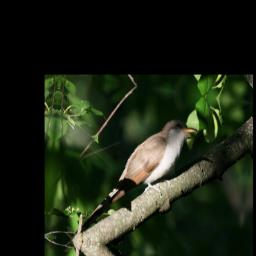Cuckoo: (76, 106, 199, 251)
